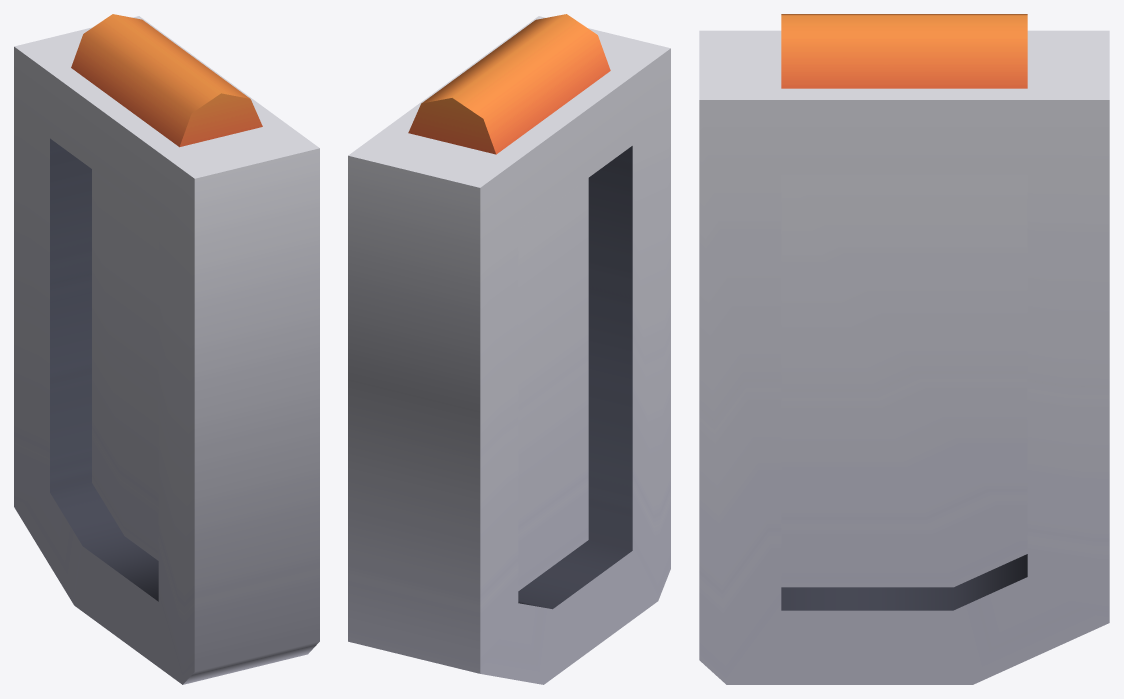
Rendered from clip-large.glb.
3 views of the same model, side by side, from view 1: azimuth 30°, elevation 25°; view 2: azimuth 150°, elevation 25°; view 3: azimuth 270°, elevation 25° (orthographic). The views are drawn at different scales.
Parts seen in each view (by area): view 1: clip-large; view 2: clip-large; view 3: clip-large.
Part boxes in pixels (x1=…): clip-large: x1=14, y1=14, x2=319, y2=684; clip-large: x1=348, y1=14, x2=670, y2=684; clip-large: x1=699, y1=14, x2=1109, y2=684.
Bounding box in the file's own units: 0.06 × 0.2558 × 0.15.
1 material, 1 textured.
